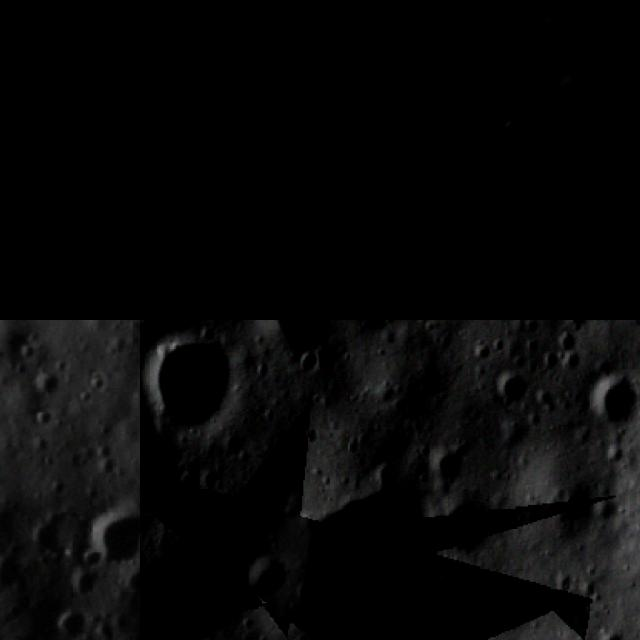crater: (281, 472, 458, 640), (140, 325, 238, 432), (417, 228, 492, 307), (81, 495, 140, 569), (140, 419, 196, 488), (368, 167, 438, 222), (437, 494, 496, 557), (582, 370, 640, 431), (251, 150, 309, 208), (235, 552, 295, 604), (176, 94, 233, 148), (551, 481, 602, 538), (292, 232, 348, 283), (533, 248, 587, 300), (473, 281, 542, 320), (23, 356, 68, 412), (257, 320, 335, 352), (168, 600, 224, 640), (49, 605, 98, 640), (425, 442, 463, 485), (488, 368, 528, 408), (293, 343, 326, 385), (140, 53, 163, 106), (595, 624, 629, 640)
